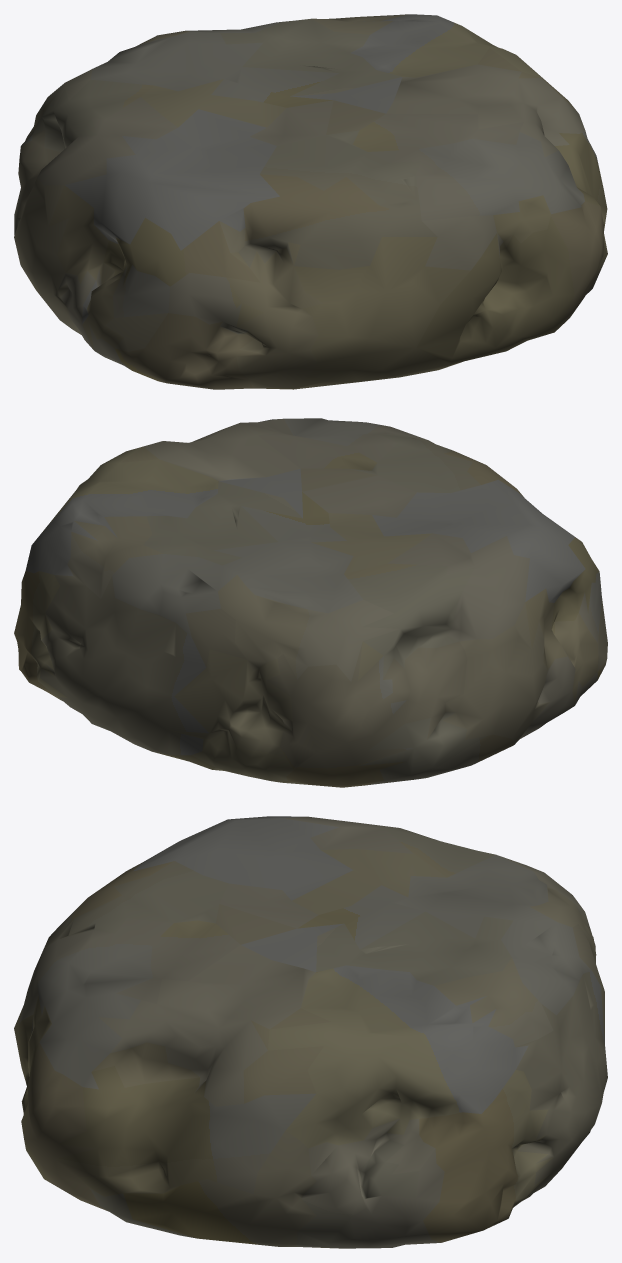
The model's file is creek_rock.glb.
3 views of the same model, one above another, from view 1: azimuth 30°, elevation 25°; view 2: azimuth 150°, elevation 25°; view 3: azimuth 270°, elevation 25° (orthographic). The views are drawn at different scales.
Parts seen in each view (by area): view 1: LO.001; view 2: LO.001; view 3: LO.001.
Boxes of the visible parts, box(x1,y1,x2,y2) form: LO.001: box(14, 14, 607, 389); LO.001: box(14, 418, 607, 787); LO.001: box(14, 816, 607, 1248).
Size of the model in its own units: 1.5 by 0.5556 by 1.37.
1 material, 1 textured.
